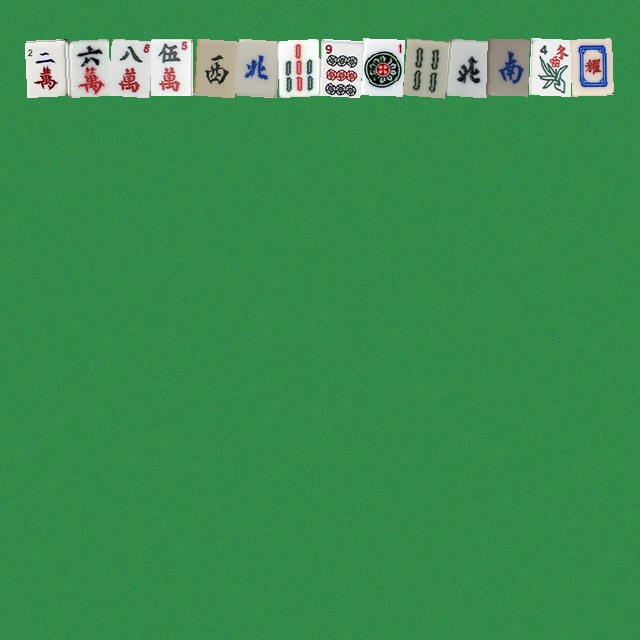tile: (24, 38, 66, 95), (66, 38, 108, 95), (108, 38, 150, 95), (150, 38, 192, 95), (192, 38, 234, 95), (234, 38, 276, 95), (276, 38, 318, 95), (318, 38, 360, 95), (360, 38, 402, 95), (402, 38, 444, 95), (444, 38, 486, 95), (486, 38, 528, 95), (528, 38, 570, 95), (570, 38, 612, 95)
